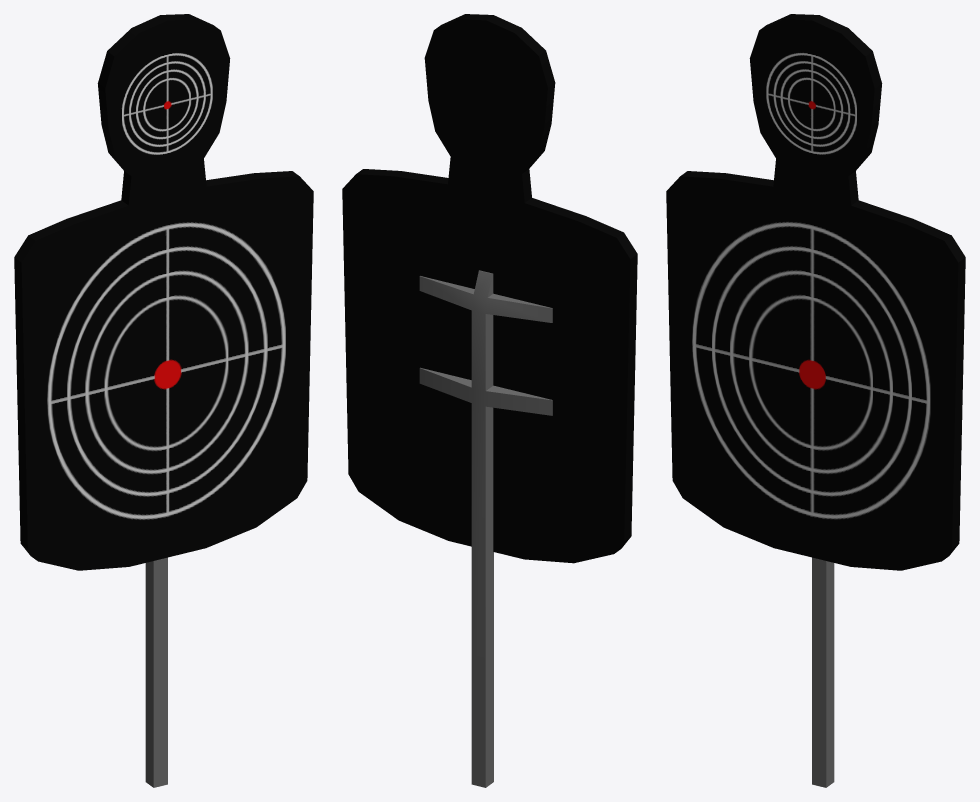
Rendered from target.fbx.
3 views of the same model, side by side, from view 1: azimuth 30°, elevation 25°; view 2: azimuth 150°, elevation 25°; view 3: azimuth 330°, elevation 25° (orthographic).
Parts seen in each view (by area): view 1: Plane; view 2: Plane; view 3: Plane.
Part boxes in pixels (x1,y1,x2,y2): Plane: [14, 14, 313, 787]; Plane: [342, 14, 637, 787]; Plane: [666, 14, 965, 787].
Bounding box in the file's own units: 199 × 502 × 17.74.
